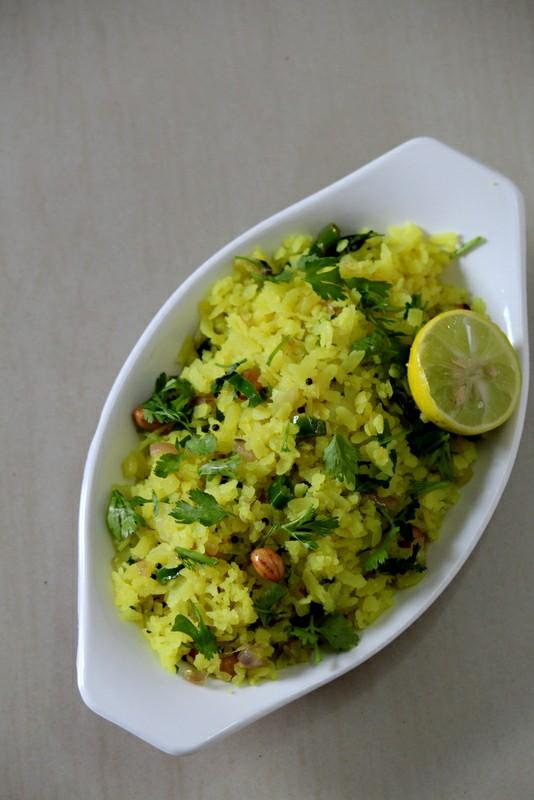Poha: (111, 220, 534, 693)
